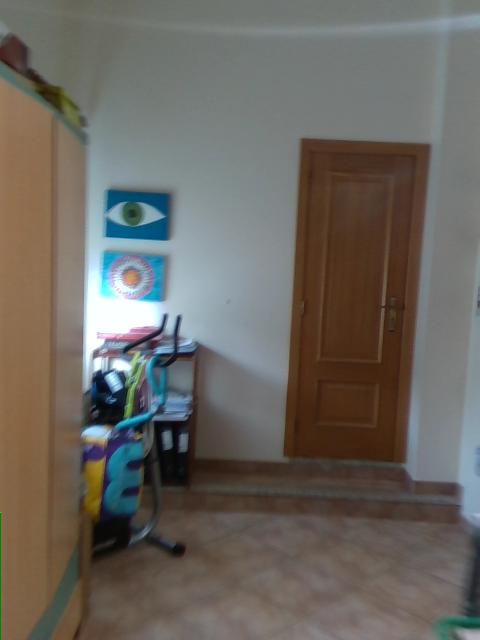door: (293, 151, 417, 459)
